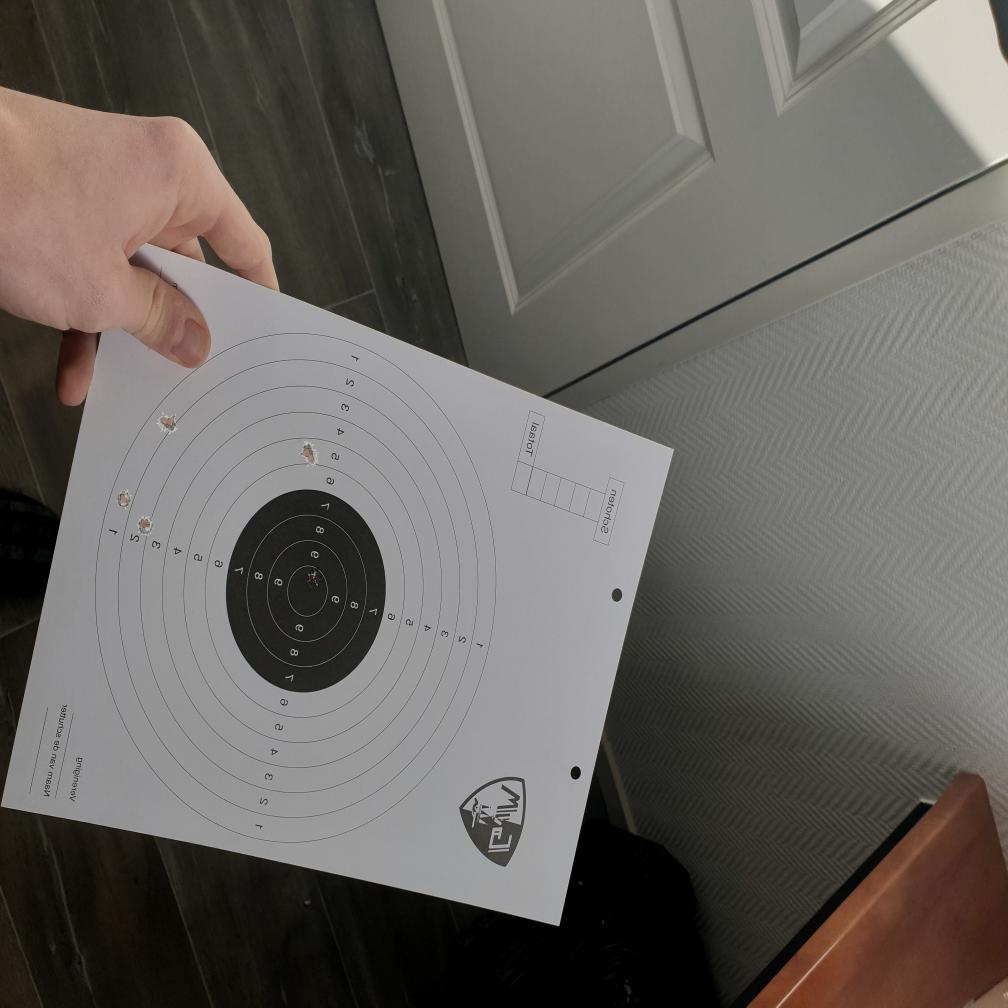1: (117, 489, 133, 510), (157, 414, 167, 432)
10: (307, 568, 323, 588)
2: (167, 414, 179, 434)
3: (137, 515, 154, 537)
5: (302, 441, 312, 458)
6: (306, 451, 320, 468)
Target: (92, 328, 501, 846)
black_contour: (227, 490, 387, 692)
